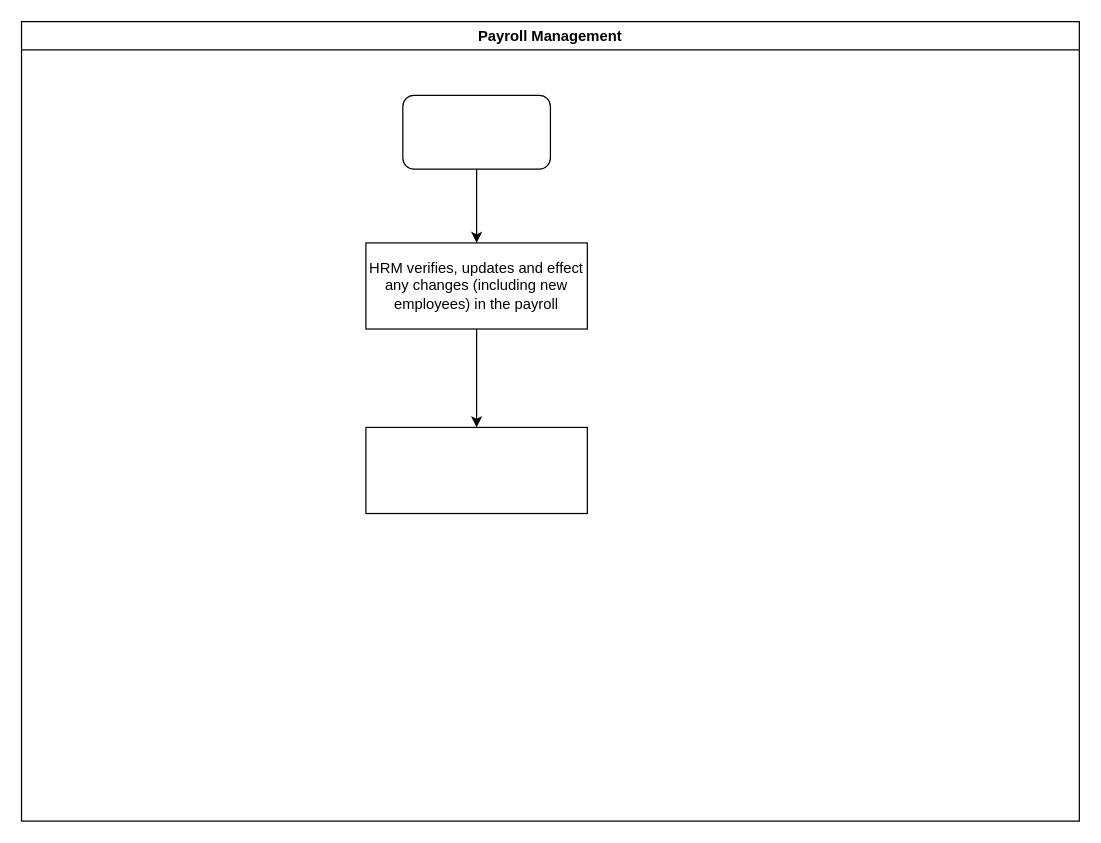
Image size: 1101x843. Some labels were removed from this diagram. Here are the shapes that lost their labels. From the top down, the box of each, then its label:
(402, 94, 550, 169): Start
(365, 426, 587, 514): Run the payroll and forward for approval by the CEO
